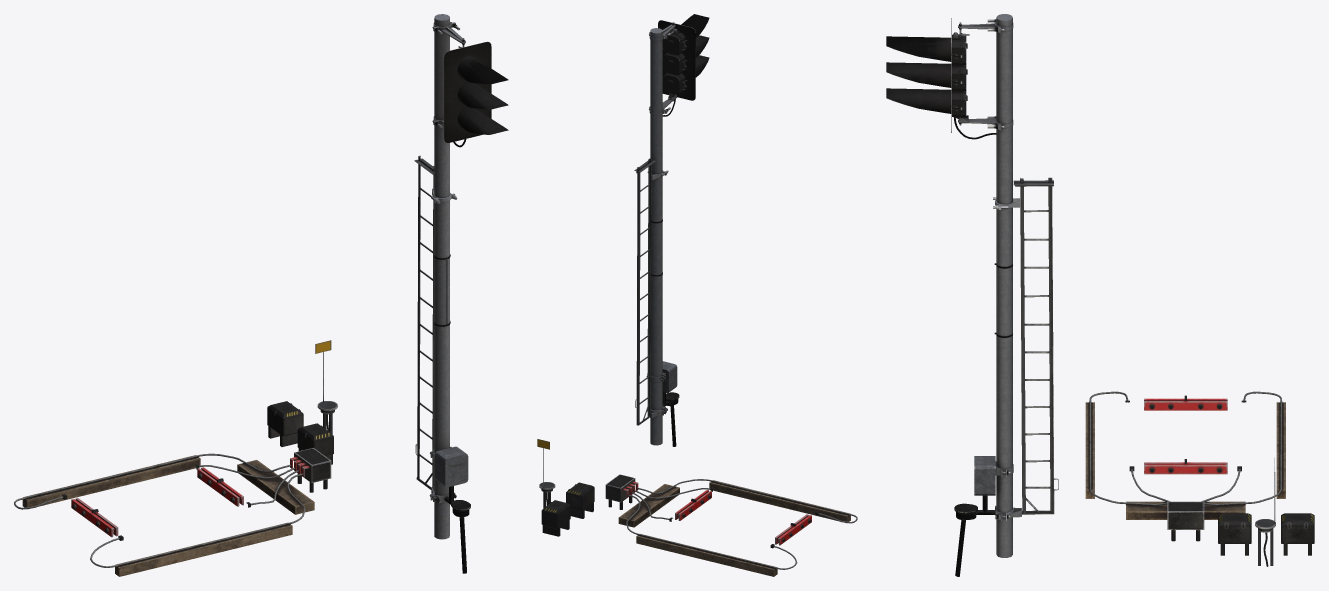
File: RM_sig_P_MM1_3_exit.gltf
3 views of the same model, side by side, from view 1: azimuth 30°, elevation 25°; view 2: azimuth 150°, elevation 25°; view 3: azimuth 270°, elevation 25° (orthographic). The views are drawn at different scales.
Parts seen in each view (by area): view 1: Светофор ПРОХОДНОЙ, Изостык; view 2: Светофор ПРОХОДНОЙ, Изостык; view 3: Светофор ПРОХОДНОЙ, Изостык.
Part boxes in pixels (box(x1,y1,x2,y2)): Светофор ПРОХОДНОЙ: box(414, 14, 508, 573); Изостык: box(14, 340, 337, 576); Светофор ПРОХОДНОЙ: box(634, 14, 709, 446); Изостык: box(537, 439, 857, 576); Светофор ПРОХОДНОЙ: box(886, 14, 1058, 576); Изостык: box(1085, 391, 1314, 566).
Bounding box in the file's own units: 4.1 × 6.54 × 4.54.
Materials: 3 (2 with a texture image).
